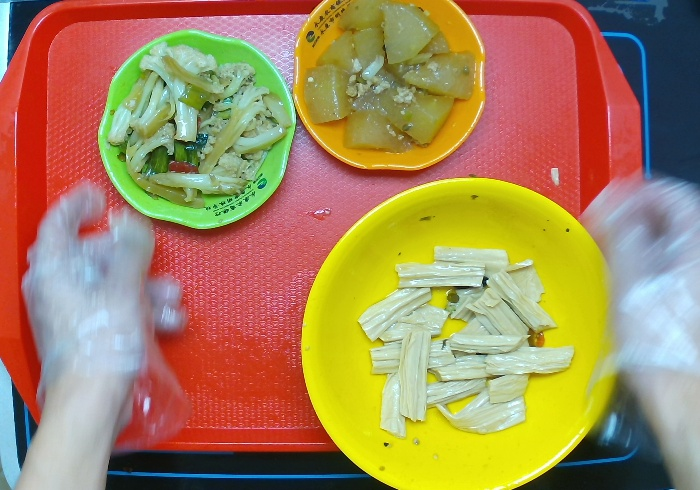YKMZ-Huang_Se_Tang_Wan: (294, 165, 634, 490)
YKMZ-Ju_Se_Ao_Bian_Wan: (293, 1, 494, 174)
YKMZ-Lv_Se_Ao_Bian_Wan: (98, 31, 293, 233)
